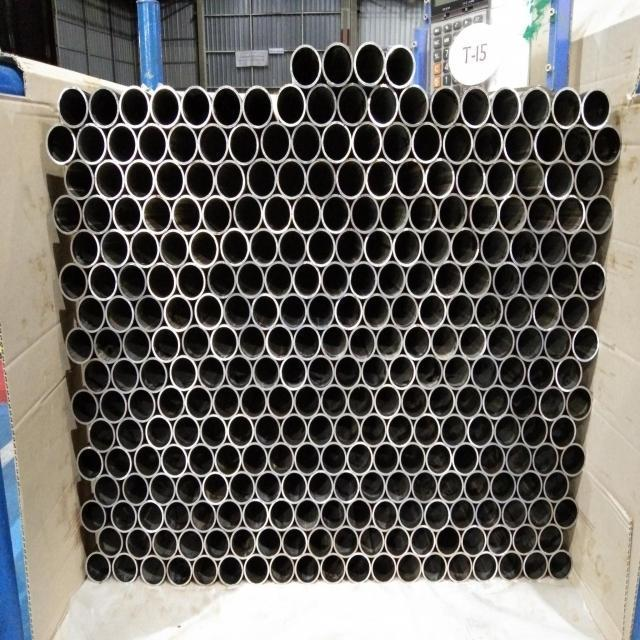pipe: (322, 41, 354, 87), (354, 40, 385, 87), (337, 81, 368, 127), (275, 83, 307, 127), (291, 43, 322, 88), (385, 44, 416, 89), (306, 82, 337, 127), (429, 85, 461, 128), (243, 85, 275, 128), (398, 83, 429, 127), (89, 84, 120, 128), (150, 85, 181, 129), (212, 85, 243, 129), (137, 122, 168, 166), (57, 86, 89, 128), (228, 123, 260, 165), (181, 85, 212, 128), (120, 85, 151, 128), (490, 86, 521, 129), (521, 86, 552, 129), (321, 120, 352, 163), (351, 121, 382, 164), (381, 121, 412, 164), (291, 121, 322, 164), (261, 121, 292, 164), (442, 122, 473, 165), (472, 122, 503, 165), (76, 122, 107, 165), (503, 122, 534, 165), (107, 122, 138, 165), (168, 122, 199, 165), (534, 122, 565, 165), (46, 122, 77, 165), (125, 158, 156, 201), (368, 83, 398, 127), (461, 85, 491, 129), (336, 157, 367, 199), (306, 158, 337, 200), (64, 159, 95, 201), (185, 159, 216, 201), (552, 86, 582, 129), (198, 123, 228, 166), (246, 159, 277, 200), (94, 159, 125, 200), (155, 159, 186, 200), (215, 159, 246, 200), (437, 192, 468, 233), (468, 194, 499, 235), (82, 194, 113, 235), (112, 194, 143, 235), (202, 194, 233, 235), (412, 122, 442, 164), (563, 124, 593, 166), (593, 124, 623, 166), (425, 157, 455, 199), (366, 157, 396, 199), (395, 157, 425, 199), (277, 158, 307, 200), (574, 159, 604, 201), (100, 228, 131, 268), (189, 228, 220, 268), (581, 88, 611, 129), (456, 159, 486, 200), (485, 159, 515, 200), (515, 159, 545, 200), (379, 193, 409, 234), (408, 193, 438, 234), (321, 193, 351, 234), (350, 193, 380, 234), (263, 193, 293, 234), (526, 194, 556, 235), (142, 194, 172, 235), (53, 194, 83, 235), (172, 194, 202, 235), (545, 159, 574, 201), (233, 194, 263, 234), (292, 194, 322, 234), (450, 227, 480, 267), (364, 227, 394, 267), (422, 227, 452, 267), (335, 227, 365, 267), (392, 227, 422, 267), (278, 227, 308, 267), (480, 228, 510, 268), (509, 228, 539, 268), (71, 228, 101, 268), (538, 228, 568, 268), (130, 228, 160, 268), (159, 229, 189, 269), (59, 261, 89, 301), (498, 194, 527, 235), (557, 194, 586, 235), (220, 228, 250, 267), (462, 260, 492, 299), (207, 260, 237, 299), (492, 261, 522, 300), (177, 262, 207, 301), (118, 262, 148, 301), (147, 262, 177, 301), (194, 292, 224, 331), (164, 293, 194, 332), (135, 294, 165, 333), (105, 294, 135, 333), (307, 227, 336, 267), (249, 227, 278, 267), (568, 228, 597, 268), (504, 293, 534, 331), (181, 324, 211, 362), (377, 260, 406, 299), (349, 260, 378, 299), (406, 260, 435, 299), (434, 260, 463, 299), (236, 260, 265, 299), (321, 260, 350, 299), (265, 260, 294, 299), (521, 261, 550, 300), (550, 261, 579, 300), (89, 262, 118, 301), (279, 292, 308, 331), (532, 293, 561, 332), (77, 295, 106, 334), (586, 194, 614, 234), (152, 326, 182, 363), (122, 326, 152, 363), (293, 261, 322, 299), (418, 292, 447, 330), (446, 292, 475, 330), (475, 292, 504, 330), (223, 292, 252, 330), (251, 293, 280, 331), (458, 323, 487, 361), (515, 324, 544, 362), (94, 326, 123, 364), (579, 261, 607, 300), (335, 292, 363, 331), (363, 292, 391, 331), (391, 292, 419, 331), (561, 293, 589, 332), (66, 326, 94, 365), (169, 355, 199, 391), (139, 357, 169, 393), (127, 386, 157, 422), (487, 324, 516, 361), (210, 324, 239, 361), (293, 324, 322, 361), (348, 324, 377, 361), (83, 357, 112, 394), (111, 357, 140, 394), (307, 292, 335, 330), (431, 323, 459, 361), (544, 324, 572, 362), (498, 355, 527, 391), (527, 356, 556, 392), (157, 385, 186, 421), (99, 387, 128, 423), (71, 389, 100, 425), (376, 323, 404, 360), (403, 323, 431, 360), (321, 324, 349, 361), (238, 324, 266, 361), (266, 324, 294, 361), (225, 354, 253, 391), (253, 354, 281, 391), (555, 355, 583, 392), (213, 383, 241, 420), (116, 417, 145, 452), (413, 412, 441, 448), (440, 412, 468, 448), (254, 412, 282, 448), (521, 413, 549, 449), (241, 441, 269, 477), (388, 354, 416, 390), (415, 354, 443, 390), (334, 354, 362, 390), (361, 354, 389, 390), (307, 354, 335, 390), (443, 354, 471, 390), (280, 354, 308, 390), (471, 355, 499, 391), (198, 355, 226, 391), (428, 383, 456, 419), (320, 383, 348, 419), (374, 383, 402, 419), (240, 384, 268, 420), (293, 384, 321, 420), (455, 384, 483, 420), (185, 384, 213, 420), (510, 385, 538, 421), (538, 385, 566, 421), (104, 446, 133, 480), (79, 499, 108, 533), (467, 413, 495, 448), (227, 413, 255, 448), (173, 414, 201, 449), (146, 415, 174, 450), (88, 418, 116, 453), (307, 412, 334, 448), (334, 412, 361, 448), (360, 412, 387, 448), (387, 412, 414, 448), (572, 325, 599, 361), (348, 383, 375, 419), (267, 383, 294, 419), (401, 384, 428, 420), (483, 384, 510, 420), (566, 385, 593, 421), (133, 444, 161, 478), (161, 444, 189, 478), (281, 413, 308, 448), (494, 413, 521, 448), (200, 414, 227, 449), (550, 415, 577, 450), (294, 441, 321, 476), (373, 441, 400, 476), (399, 441, 426, 476), (268, 441, 295, 476), (479, 442, 506, 477), (215, 442, 242, 477), (188, 443, 215, 478), (77, 446, 104, 481), (359, 469, 386, 504), (385, 469, 412, 504), (412, 469, 439, 504), (229, 470, 256, 505), (149, 471, 176, 506), (176, 472, 203, 507), (294, 497, 321, 532), (93, 474, 122, 506), (532, 443, 560, 476), (110, 500, 138, 533), (125, 527, 153, 560), (426, 442, 453, 476), (452, 442, 479, 476), (506, 442, 533, 476), (490, 470, 517, 504), (307, 470, 334, 504), (333, 470, 360, 504), (281, 470, 308, 504), (123, 472, 150, 506), (346, 497, 373, 531), (216, 498, 243, 532), (307, 525, 334, 559), (321, 441, 347, 476), (347, 441, 373, 476), (256, 470, 282, 505), (203, 471, 229, 506), (269, 497, 295, 532), (191, 499, 217, 534), (560, 443, 587, 476), (543, 470, 570, 503), (517, 470, 544, 503), (501, 497, 528, 530), (138, 500, 165, 533), (139, 554, 166, 587), (464, 470, 490, 504), (438, 470, 464, 504), (450, 497, 476, 531), (321, 497, 347, 531), (398, 497, 424, 531), (372, 498, 398, 532), (243, 498, 269, 532), (424, 498, 450, 532), (164, 499, 190, 533), (333, 524, 359, 558), (359, 524, 385, 558), (257, 525, 283, 559), (230, 526, 256, 560), (152, 527, 178, 561), (204, 527, 230, 561), (178, 527, 204, 561), (112, 552, 139, 584), (528, 496, 554, 529), (553, 496, 579, 529), (476, 497, 502, 530), (538, 523, 564, 556), (513, 523, 539, 556), (461, 524, 487, 557), (436, 525, 462, 558), (410, 525, 436, 558), (282, 526, 308, 559), (86, 551, 112, 584), (346, 552, 372, 585), (371, 552, 397, 585), (269, 552, 295, 585), (295, 552, 321, 585), (321, 552, 347, 585), (244, 553, 270, 586), (218, 554, 244, 587), (192, 554, 218, 587), (385, 524, 410, 558), (97, 526, 124, 557), (498, 550, 524, 582), (166, 554, 192, 586), (487, 524, 512, 557), (548, 549, 573, 582), (422, 551, 447, 584), (397, 552, 422, 585), (524, 549, 549, 581), (448, 551, 473, 583), (474, 551, 498, 581)
